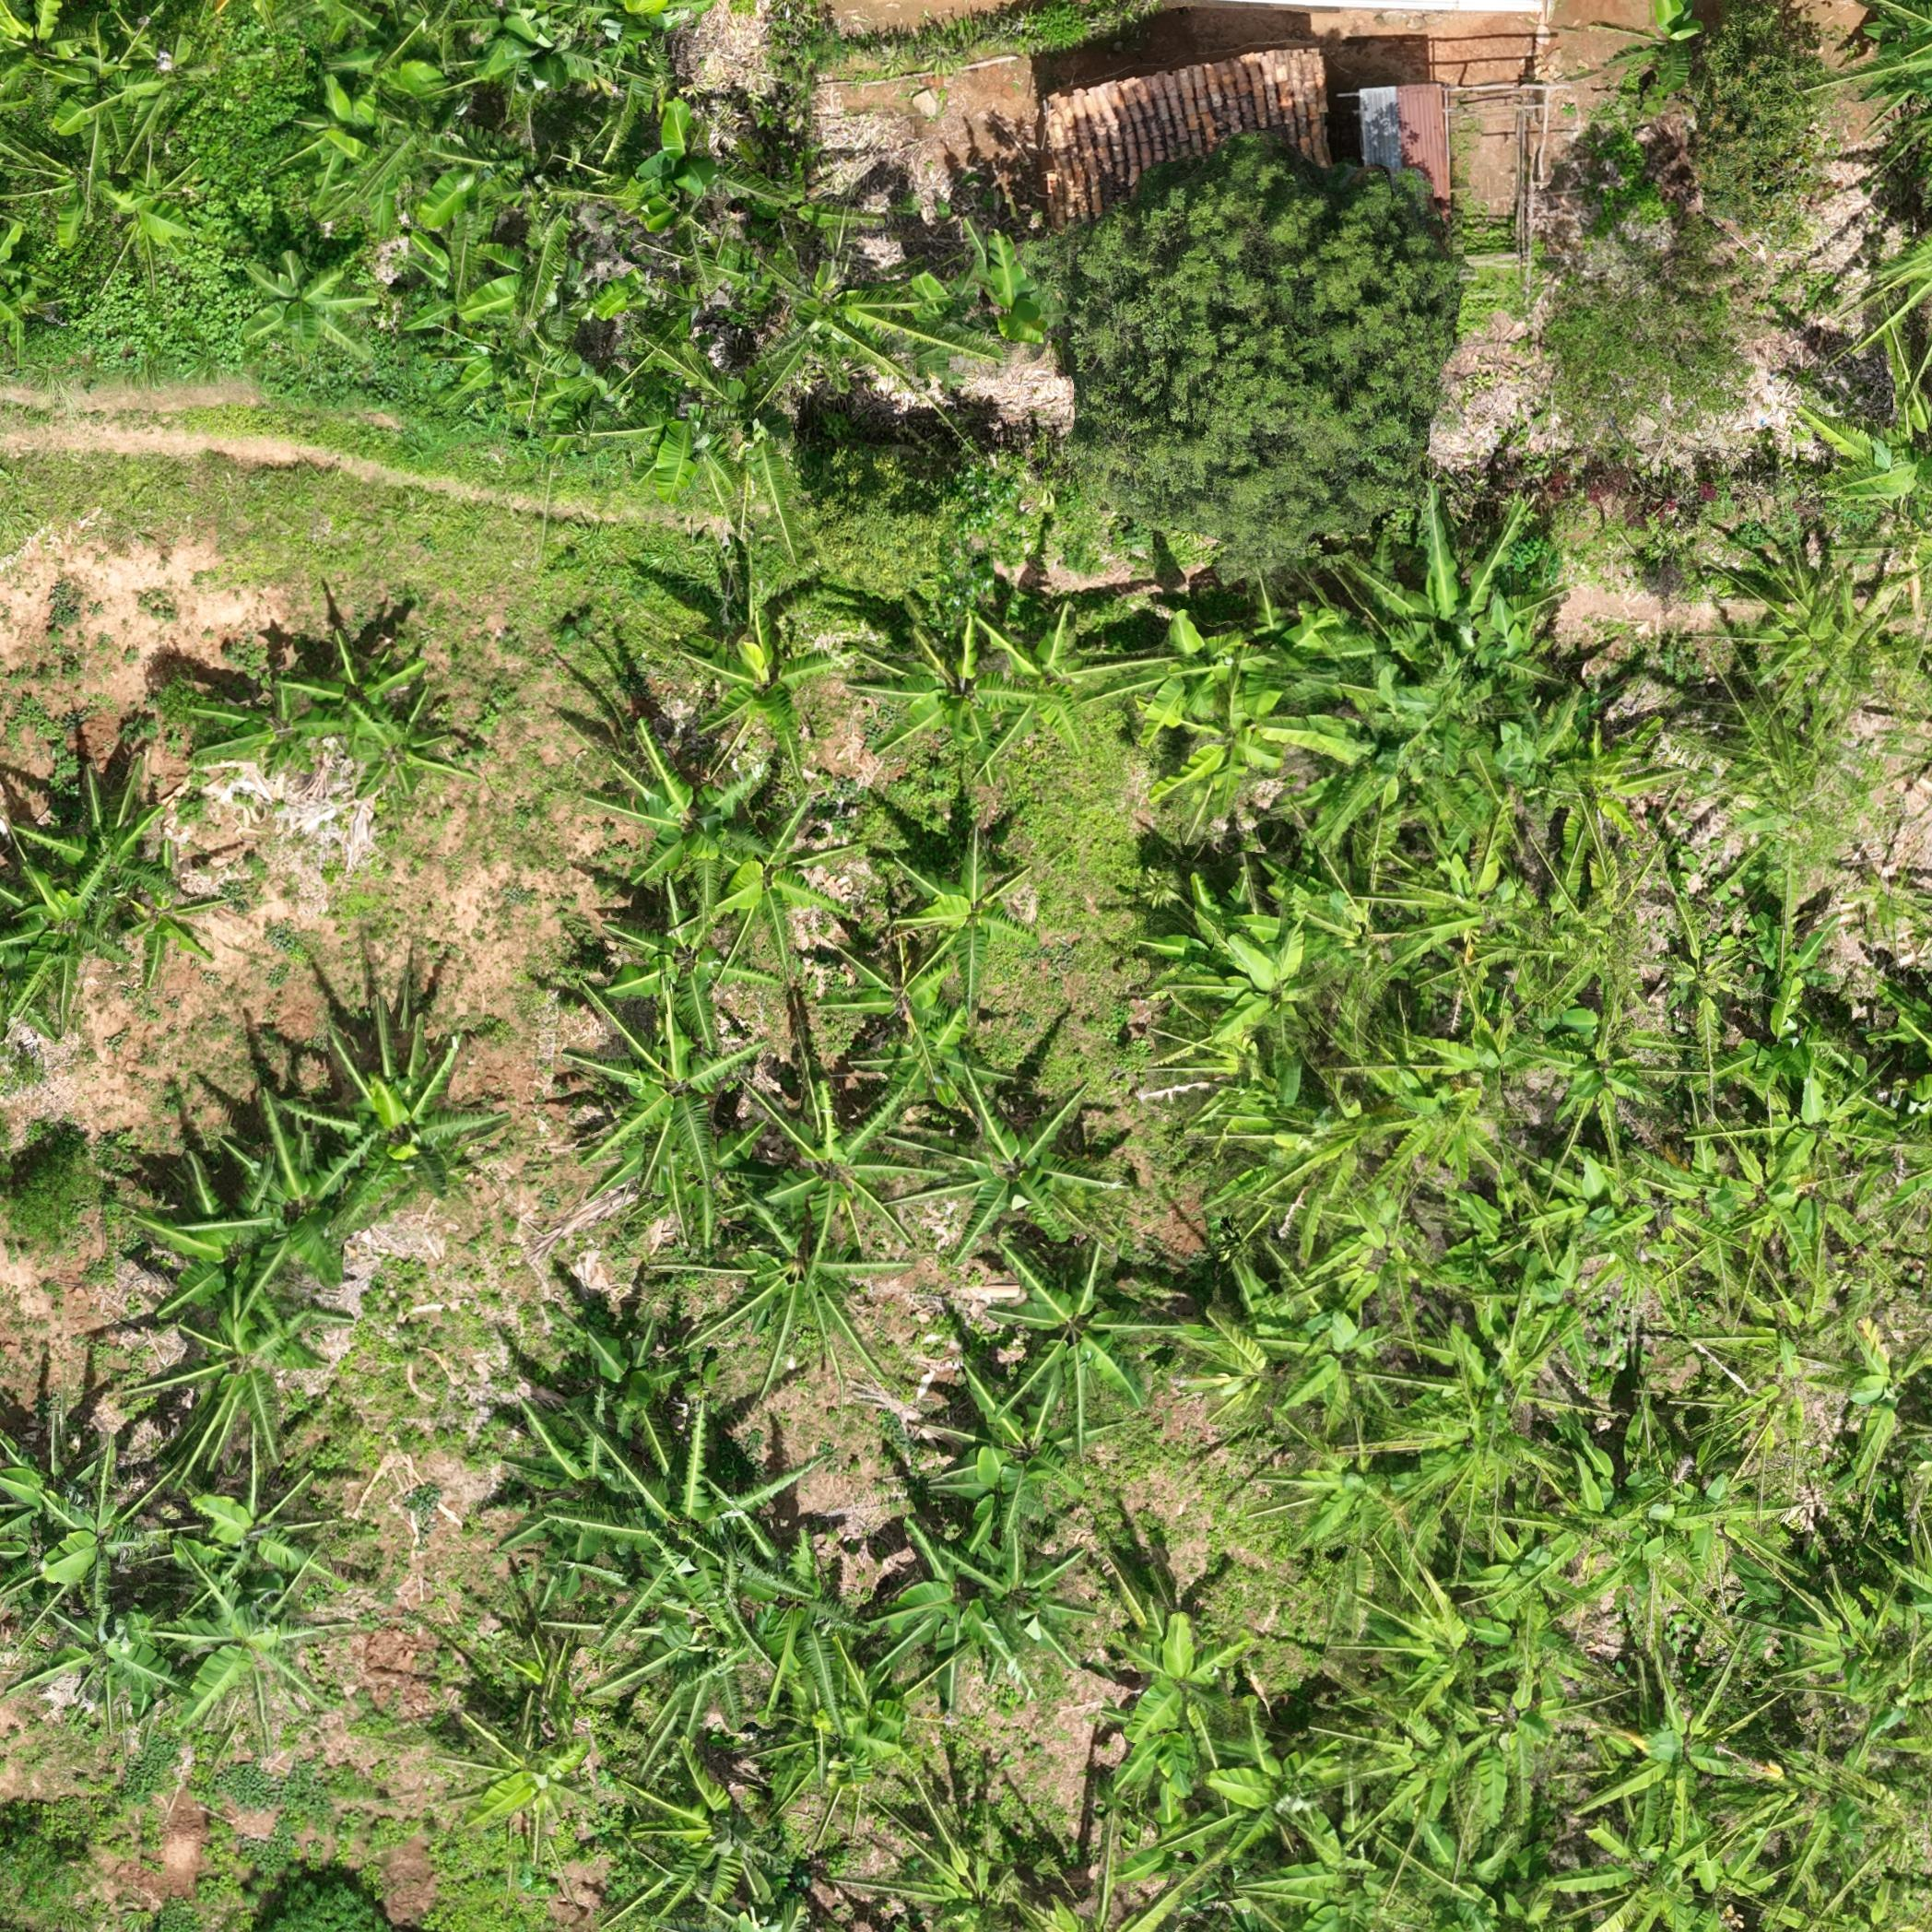Banana: (619, 1426, 810, 1614), (694, 1194, 879, 1373), (577, 993, 754, 1173), (1748, 552, 1923, 725), (152, 1552, 326, 1727), (980, 1228, 1154, 1398), (630, 1727, 780, 1914), (324, 1024, 490, 1187), (1771, 1578, 1930, 1748), (729, 1079, 915, 1224), (228, 1093, 373, 1277), (938, 1376, 1118, 1520), (1276, 1415, 1460, 1555), (773, 248, 948, 389), (867, 612, 1026, 768), (872, 1790, 1049, 1928), (600, 1598, 761, 1748), (932, 1088, 1092, 1238), (594, 725, 741, 888), (874, 1529, 1007, 1700), (895, 840, 1033, 1001), (1808, 1323, 1928, 1507), (1329, 541, 1493, 672), (1615, 1131, 1780, 1261), (1233, 566, 1366, 727), (1663, 936, 1842, 1054), (600, 911, 761, 1042), (444, 1718, 598, 1854), (713, 1529, 855, 1675), (1520, 1157, 1670, 1295), (996, 598, 1122, 763), (159, 1352, 334, 1468), (1424, 996, 1589, 1120), (1223, 1300, 1394, 1419), (959, 1497, 1081, 1663), (152, 1169, 297, 1309), (1407, 1325, 1582, 1440), (681, 598, 821, 741), (34, 1575, 168, 1721), (471, 1617, 617, 1752), (506, 1405, 640, 1550), (1283, 1191, 1447, 1309), (1564, 1803, 1725, 1923), (1353, 1697, 1491, 1836), (724, 814, 860, 955), (1734, 1090, 1891, 1212), (168, 1465, 320, 1591), (1118, 1601, 1253, 1743), (1175, 697, 1320, 828), (414, 11, 561, 140), (1725, 743, 1845, 897), (1380, 830, 1527, 955), (1713, 1000, 1861, 1123), (188, 1272, 329, 1398), (1353, 1035, 1497, 1159), (1267, 851, 1399, 984), (1463, 1652, 1580, 1803), (761, 1663, 906, 1783), (1513, 853, 1640, 989), (37, 761, 163, 899), (1516, 1474, 1665, 1589), (1214, 1718, 1345, 1847), (617, 117, 761, 234), (840, 948, 994, 1056), (207, 665, 343, 786), (1631, 1467, 1752, 1603), (1753, 1743, 1893, 1859), (1355, 1568, 1486, 1691), (1293, 715, 1440, 824), (1629, 1690, 1743, 1831), (734, 157, 878, 269), (398, 228, 518, 361), (1185, 1021, 1322, 1138), (566, 1330, 690, 1458), (1389, 557, 1525, 671), (1391, 646, 1518, 766), (1693, 1318, 1817, 1440), (5, 1430, 99, 1591), (858, 1031, 1001, 1132), (1145, 612, 1256, 741), (642, 398, 787, 497), (1102, 1704, 1228, 1817), (18, 862, 108, 1019), (1161, 869, 1288, 978), (1789, 1826, 1920, 1930), (60, 1488, 166, 1615), (1534, 1019, 1660, 1125), (248, 249, 364, 361), (363, 136, 479, 248), (1253, 1831, 1384, 1928), (1468, 720, 1583, 830), (94, 163, 196, 278), (460, 331, 587, 421), (1550, 750, 1665, 849), (1233, 920, 1323, 1046), (16, 133, 119, 239), (957, 241, 1058, 349), (333, 702, 451, 791), (315, 642, 433, 724), (60, 46, 157, 143), (113, 876, 209, 973), (0, 4, 94, 90), (303, 74, 380, 179), (1621, 11, 1713, 88)
